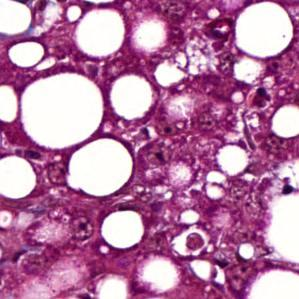steatosis: (19, 72, 108, 146), (68, 144, 138, 194), (234, 1, 293, 58), (75, 10, 132, 57), (112, 71, 156, 121), (97, 210, 148, 250)
